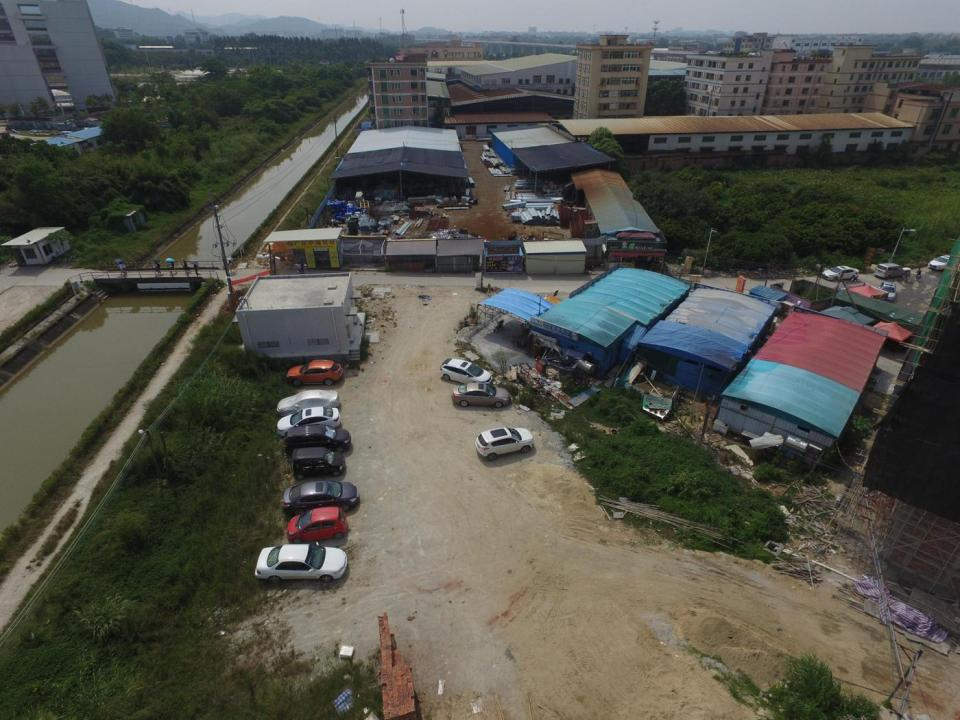car: (255, 543, 348, 582), (283, 478, 357, 516), (287, 507, 347, 544), (284, 425, 352, 457), (475, 426, 534, 461), (278, 405, 342, 437), (291, 447, 349, 481), (276, 389, 340, 415), (284, 359, 345, 386), (450, 383, 511, 408), (440, 359, 492, 386), (822, 265, 858, 282), (927, 254, 957, 272), (879, 281, 897, 301)
van: (873, 263, 907, 279)
